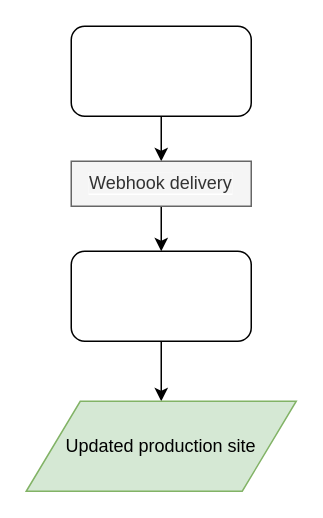
Some shapes in this 323 by 518 pixel diagram are drawn without their labels. The shapes that lost their labels are listed below. From the top down, each one's box as (x1, y1, x2, y2) in pixels, then its label:
(70, 25, 251, 116): Push to GitHub
(70, 250, 251, 341): Deployment
